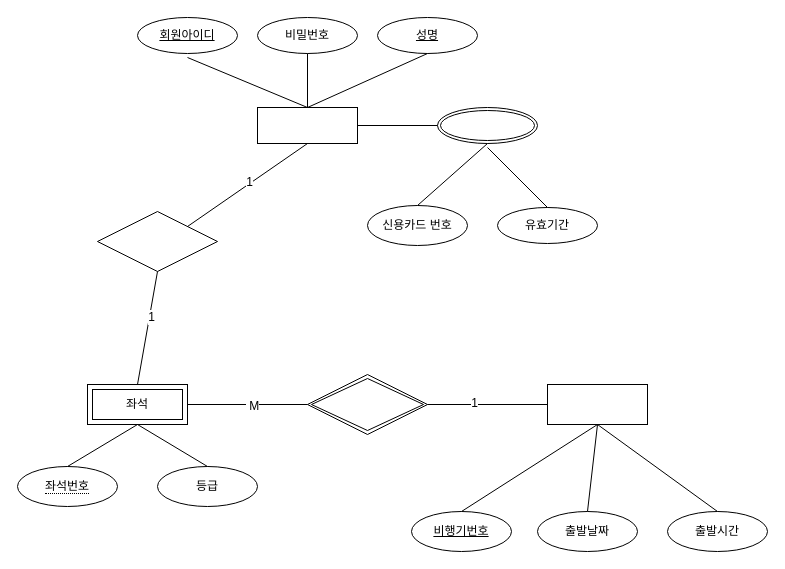
This 785x569 diagram has some shape labels left out. Here are the shapes that lost their labels. From the top down, the centre of each, then its label:
point 307,125: 회원
point 487,125: 신용카드 정보
point 157,241: 예약
point 367,404: 존재
point 597,404: 비행기
